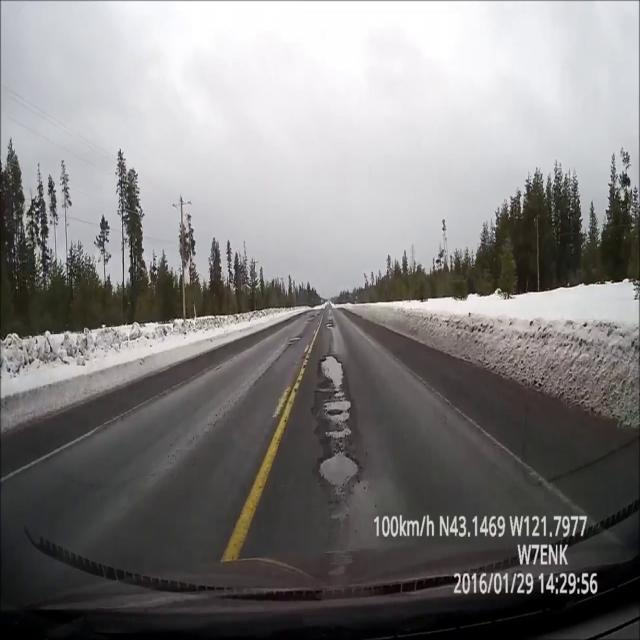Pothole: (317, 449, 360, 487), (320, 354, 343, 388), (325, 401, 350, 423), (327, 429, 351, 438), (289, 336, 301, 340), (325, 323, 333, 328)
